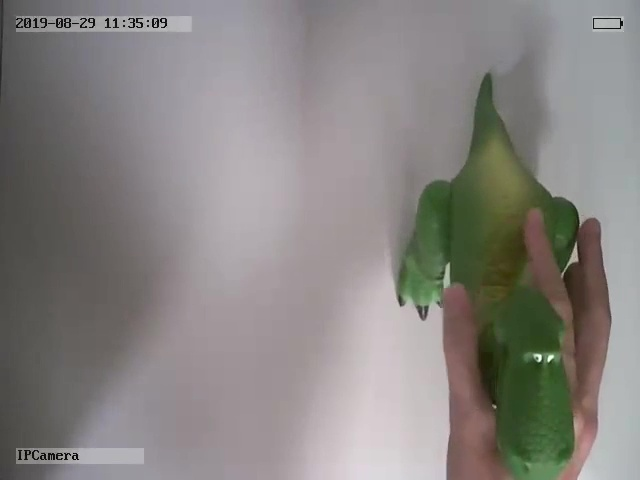rex: (393, 71, 580, 479)
